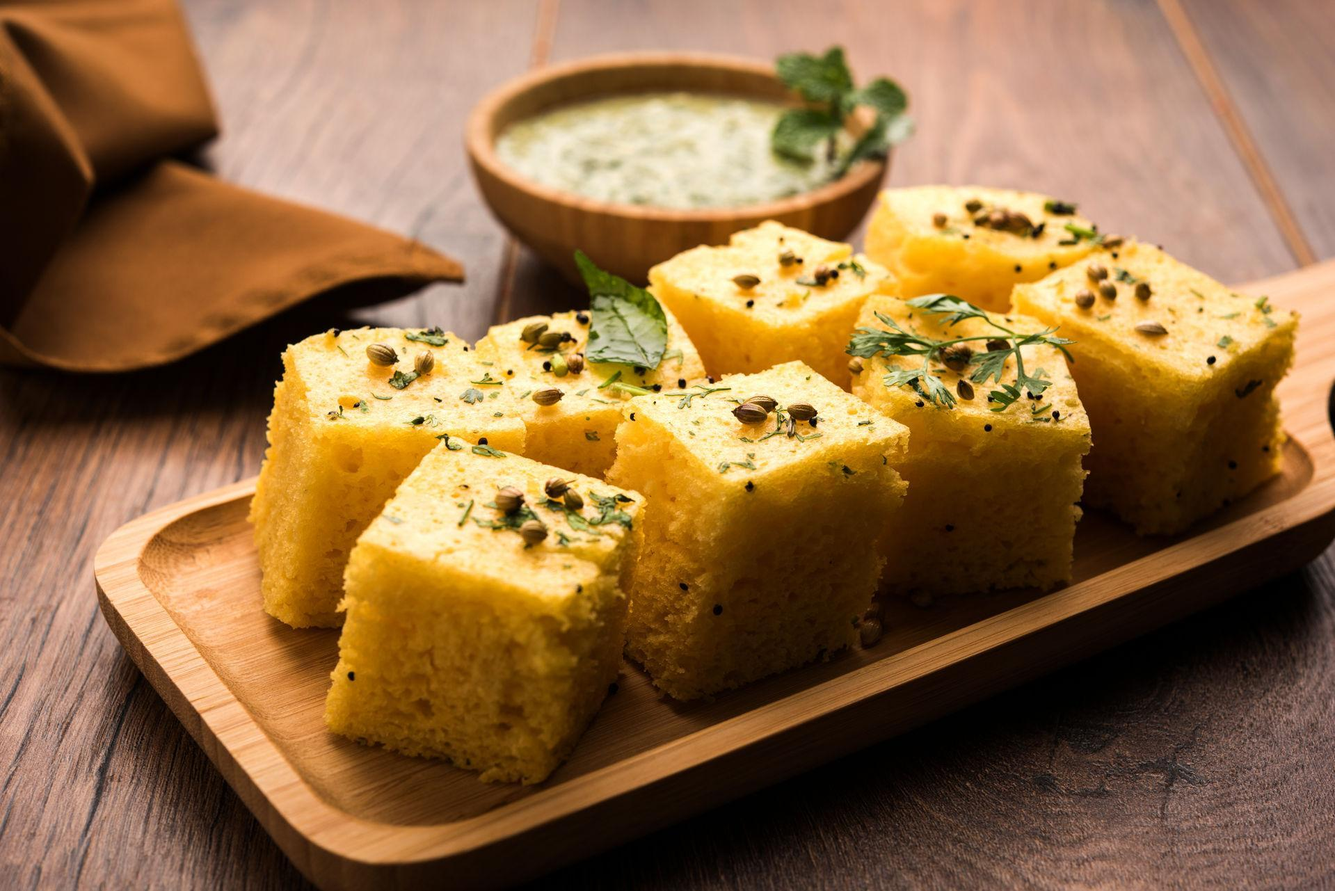dhokla: (202, 245, 1329, 739)
